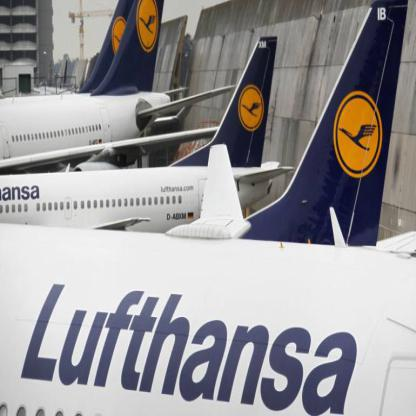CIV_Plane: (0, 220, 398, 416), (0, 23, 282, 218), (0, 3, 209, 166)
